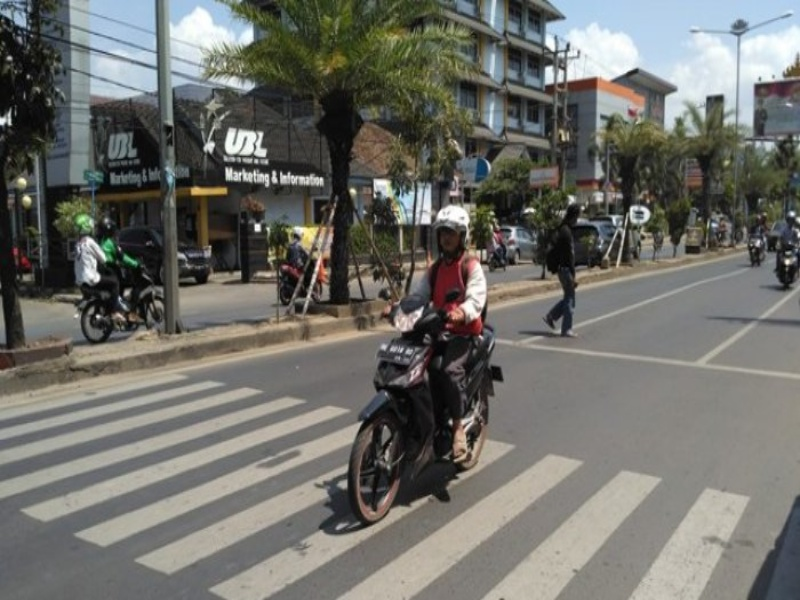zebra cross: (1, 367, 752, 600)
